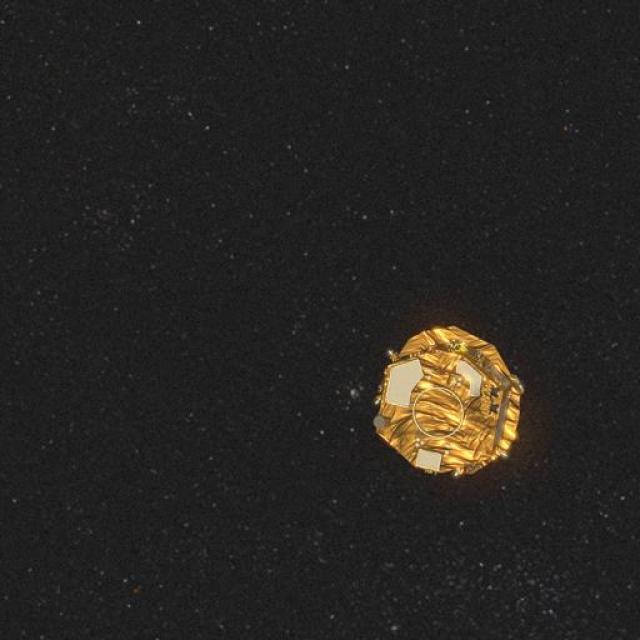lisa_pathfinder: (348, 300, 545, 490)
